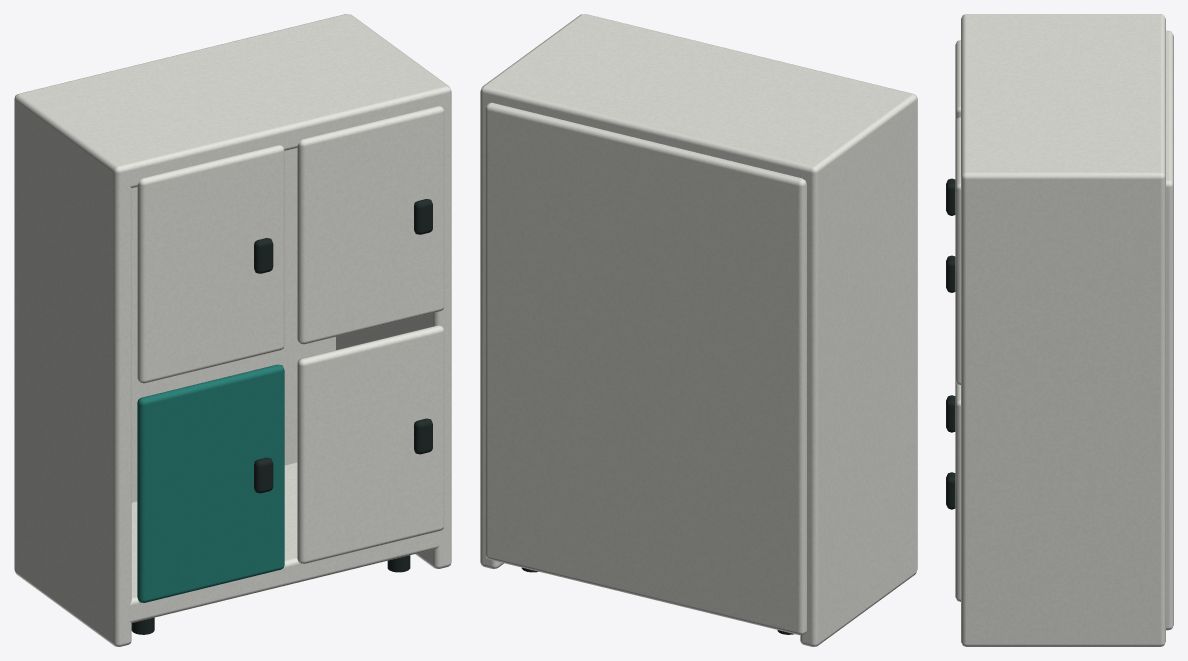
Rendered from detail-storage-cabinet-0.glb.
3 renders of one model, left to right at view 1: azimuth 30°, elevation 25°; view 2: azimuth 150°, elevation 25°; view 3: azimuth 270°, elevation 25°, orthographic.
Visible parts, largest first — view 1: door (×4), cabinet_side (×2), cabinet_cap (×2), cabinet_back, lock (×4); view 2: cabinet_back, cabinet_side (×2), cabinet_cap; view 3: cabinet_side (×2), cabinet_cap, cabinet_back, door (×3), lock (×4).
Boxes of the visible parts, left/top/right/bottom form: door (×4): left=137, top=106, right=444, bottom=602; cabinet_side (×2): left=14, top=14, right=451, bottom=646; cabinet_cap (×2): left=27, top=16, right=440, bottom=622; cabinet_back: left=131, top=148, right=335, bottom=502; lock (×4): left=254, top=199, right=432, bottom=493; cabinet_back: left=485, top=102, right=806, bottom=635; cabinet_side (×2): left=480, top=14, right=917, bottom=646; cabinet_cap: left=491, top=16, right=904, bottom=178; cabinet_side (×2): left=961, top=14, right=1165, bottom=646; cabinet_cap: left=961, top=18, right=1165, bottom=172; cabinet_back: left=1166, top=30, right=1173, bottom=630; door (×3): left=955, top=40, right=960, bottom=601; lock (×4): left=946, top=178, right=955, bottom=509.
Bounding box in the file's own units: 0.845 × 1.15 × 0.5.
3 materials, 3 textured.
